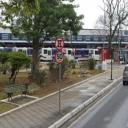speed_limit_50: (54, 50, 65, 64)
